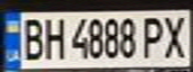4: (66, 15, 87, 61)
8: (118, 15, 142, 60), (84, 15, 106, 60), (103, 15, 124, 60)
B: (18, 15, 48, 61)
H: (39, 15, 69, 61)
P: (139, 12, 169, 60)
X: (160, 11, 193, 60)
